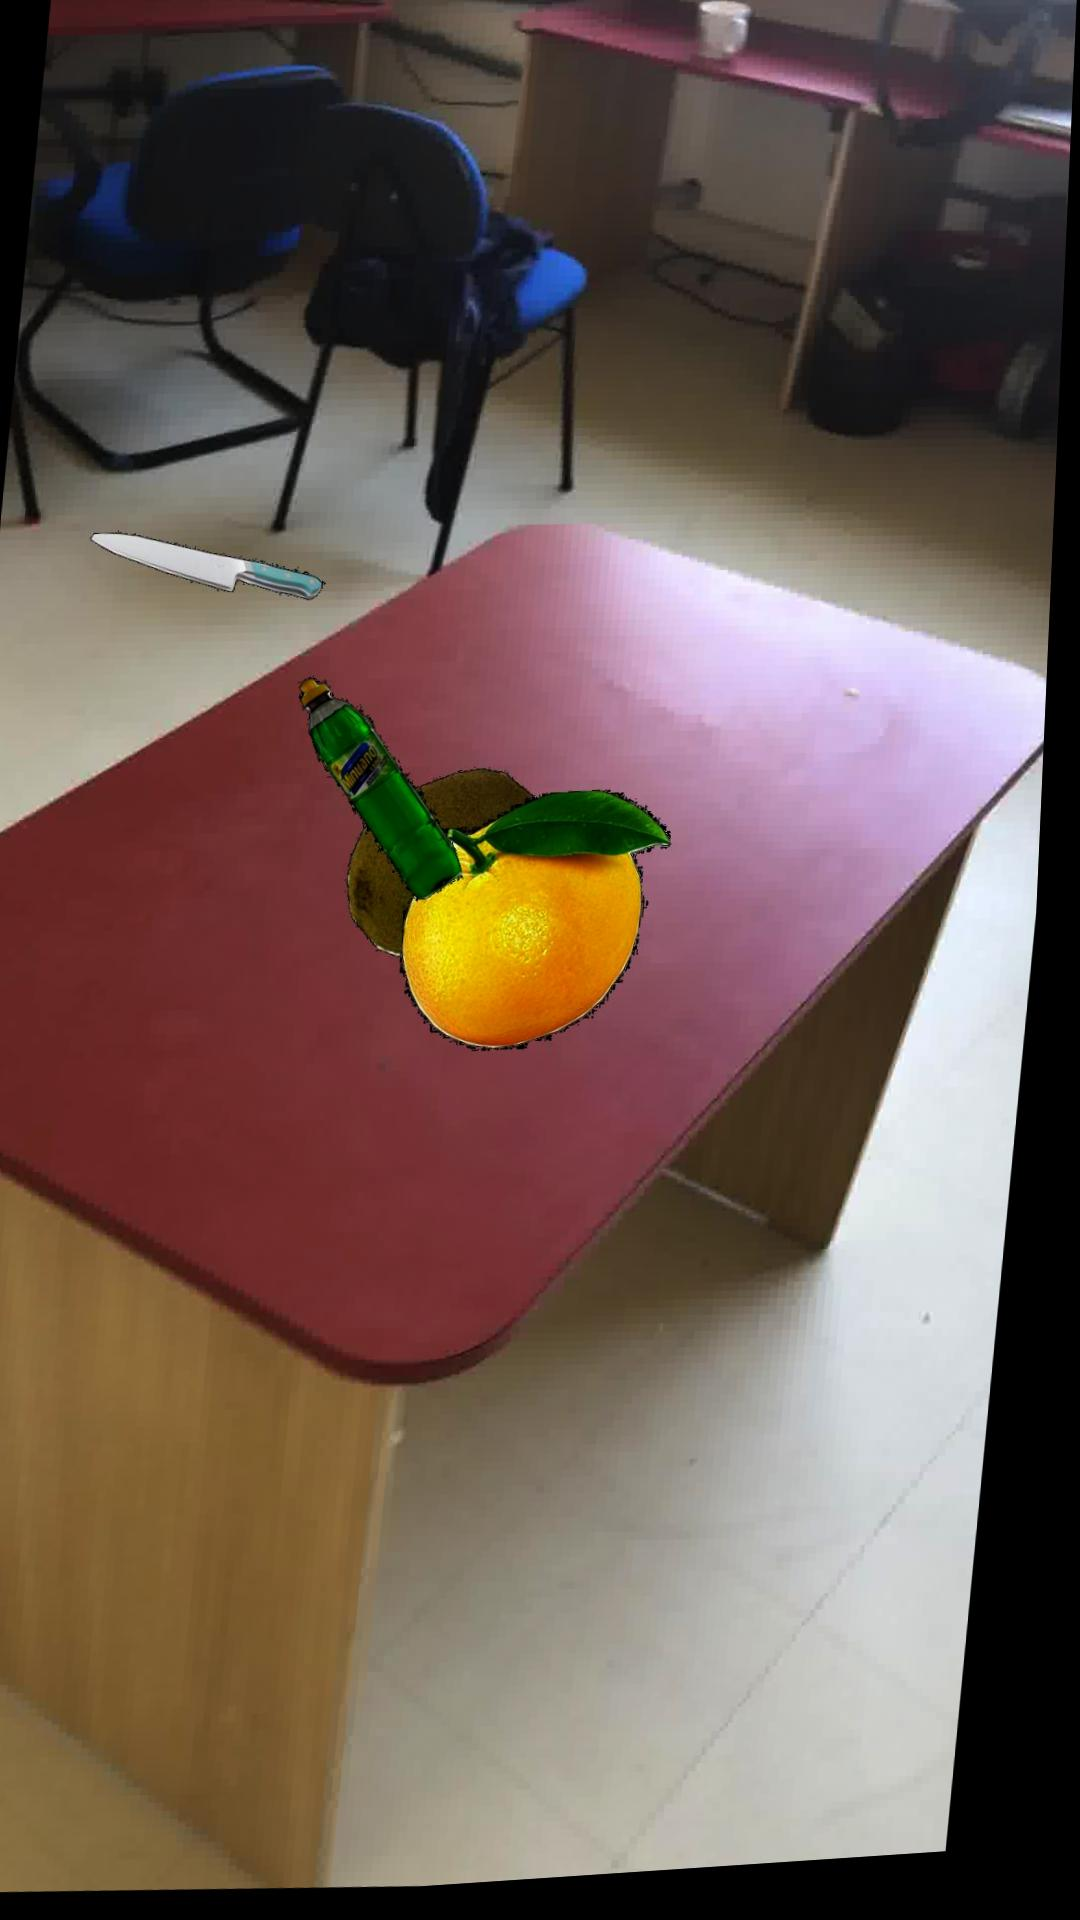cleaner: (303, 679, 468, 905)
kiwi: (352, 773, 539, 960)
knife: (92, 531, 327, 601)
orange: (406, 796, 676, 1055)
